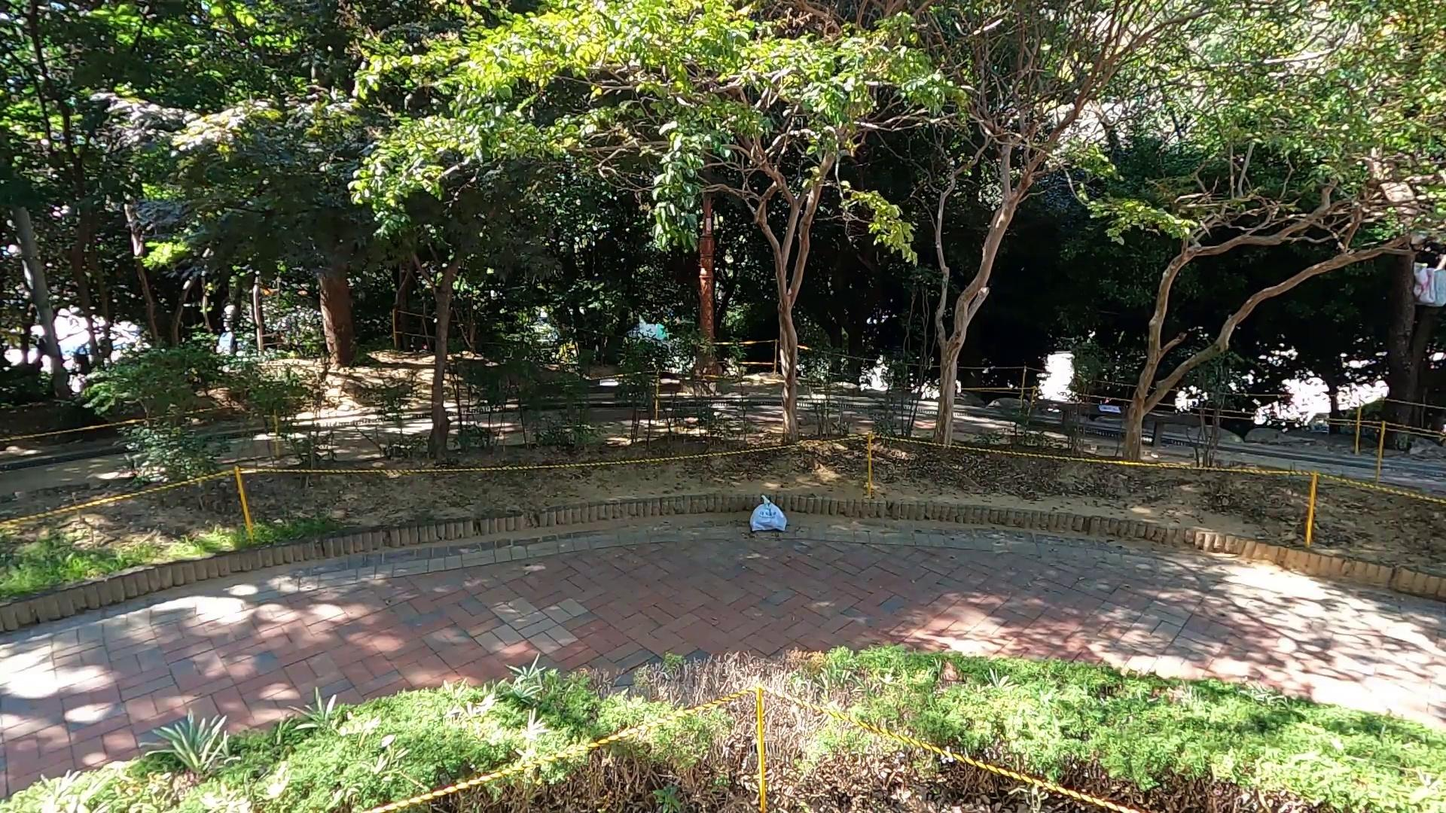trash: (748, 495, 787, 537)
